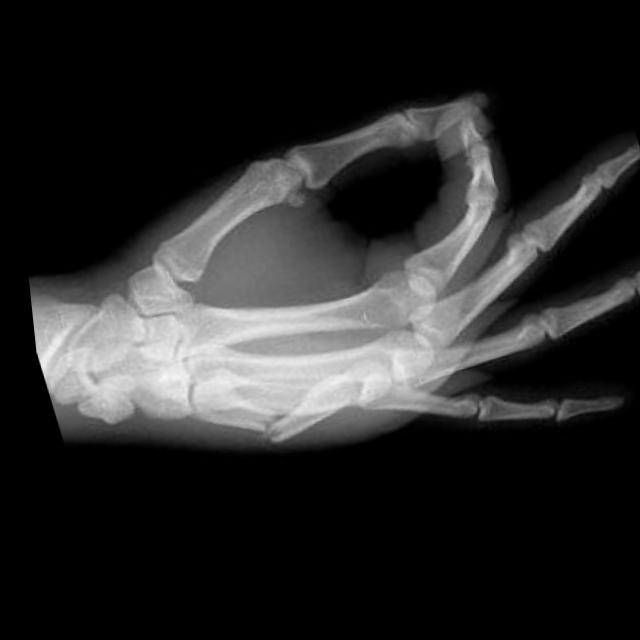fracture: (224, 401, 294, 466)
